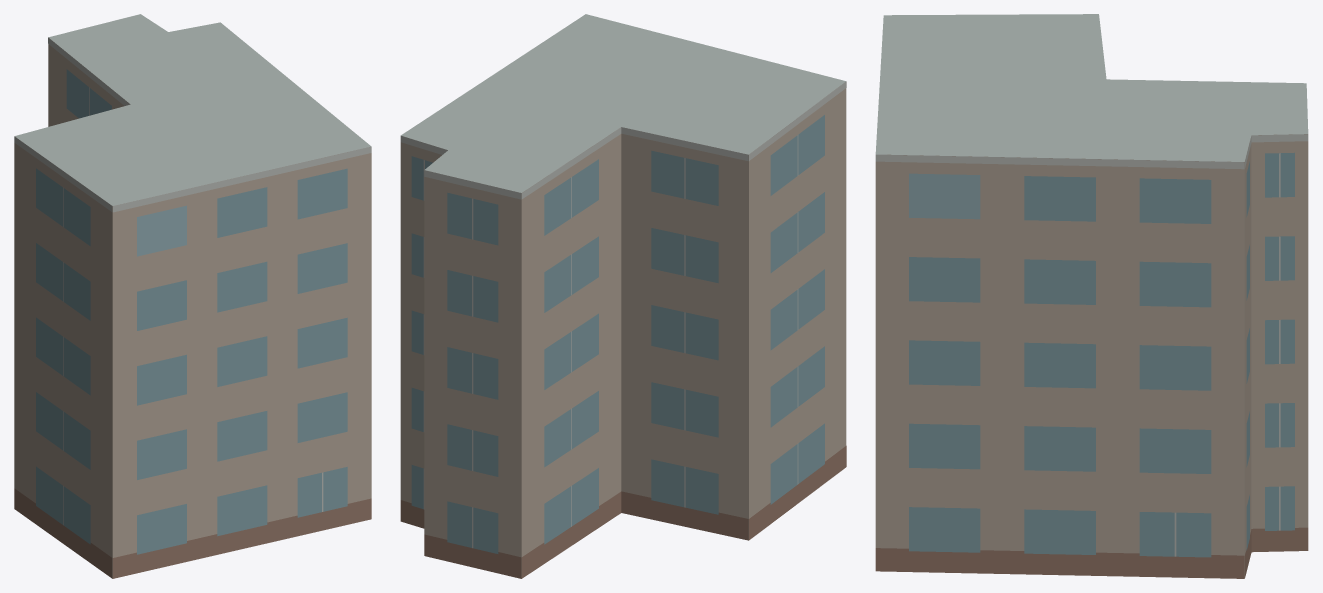
The model's file is survey-upis-32499331.glb.
The picture shows the model from 3 angles, left to right: view 1: azimuth 30°, elevation 25°; view 2: azimuth 150°, elevation 25°; view 3: azimuth 270°, elevation 25°; orthographic projection. The views are drawn at different scales.
Parts seen in each view (by area): view 1: survey-upis-32499331.tmp; view 2: survey-upis-32499331.tmp; view 3: survey-upis-32499331.tmp.
Boxes of the visible parts, bbox=[...] form: survey-upis-32499331.tmp: bbox=[14, 14, 371, 578]; survey-upis-32499331.tmp: bbox=[400, 14, 846, 578]; survey-upis-32499331.tmp: bbox=[875, 14, 1308, 578].
Bounding box in the file's own units: 10.83 × 14.2 × 13.37.
